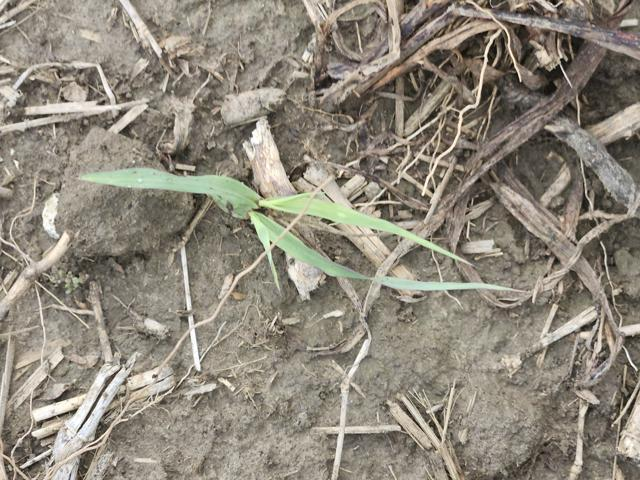bad weed: (58, 142, 530, 342)
